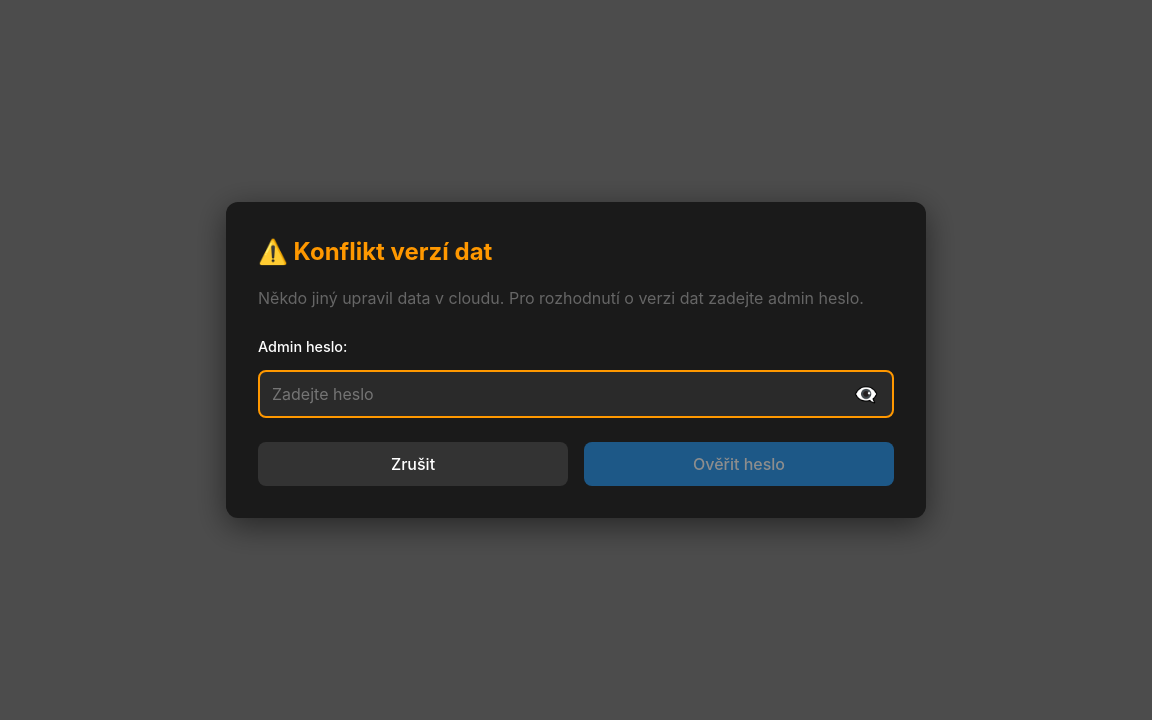
Scenario: ConflictResolutionModal › should show error when admin password is not set
Type "admin123" into the password field with placeholder "Zadejte heslo" at (576, 394), box [258,370,894,418]
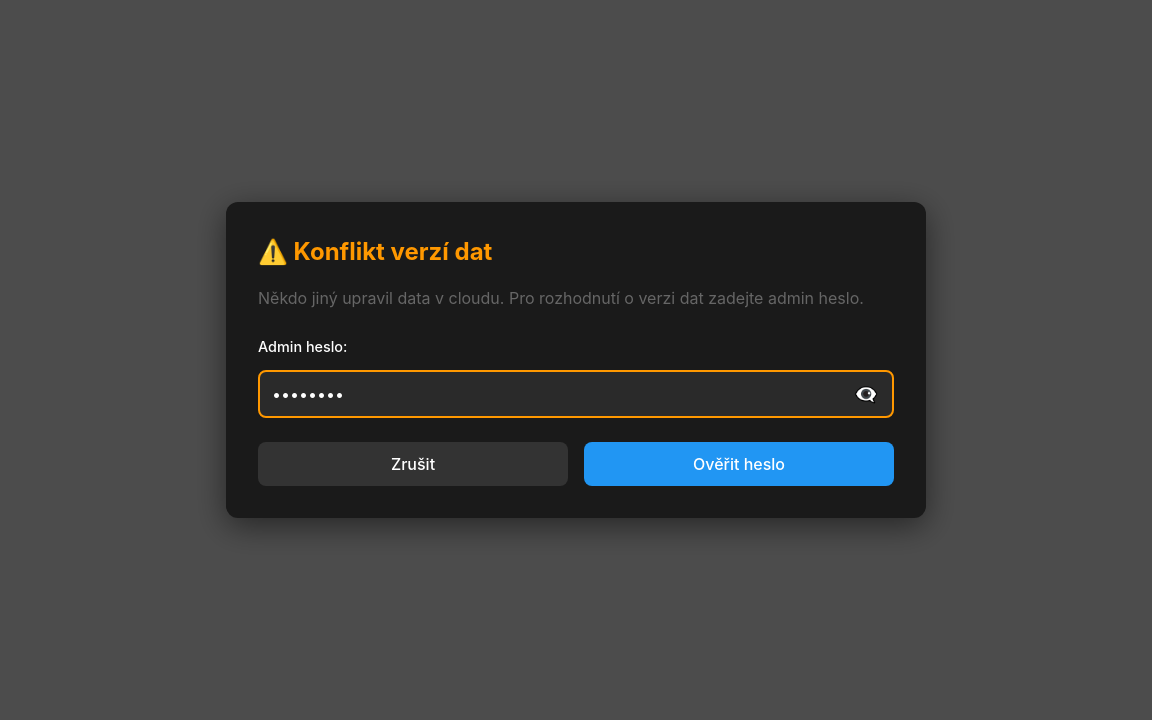
Click the button "Ověřit heslo" at (739, 464), box [584,442,894,486]
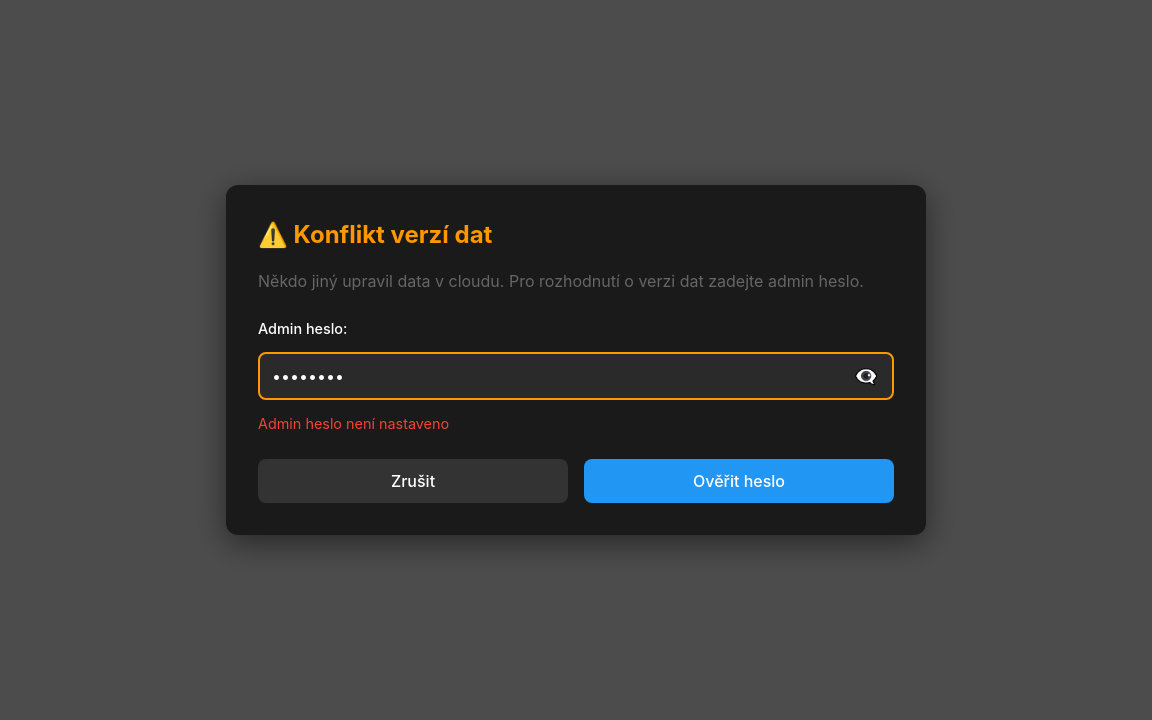
Expected: the text "Admin heslo není nastaveno" is shown, [258,415,449,432]
